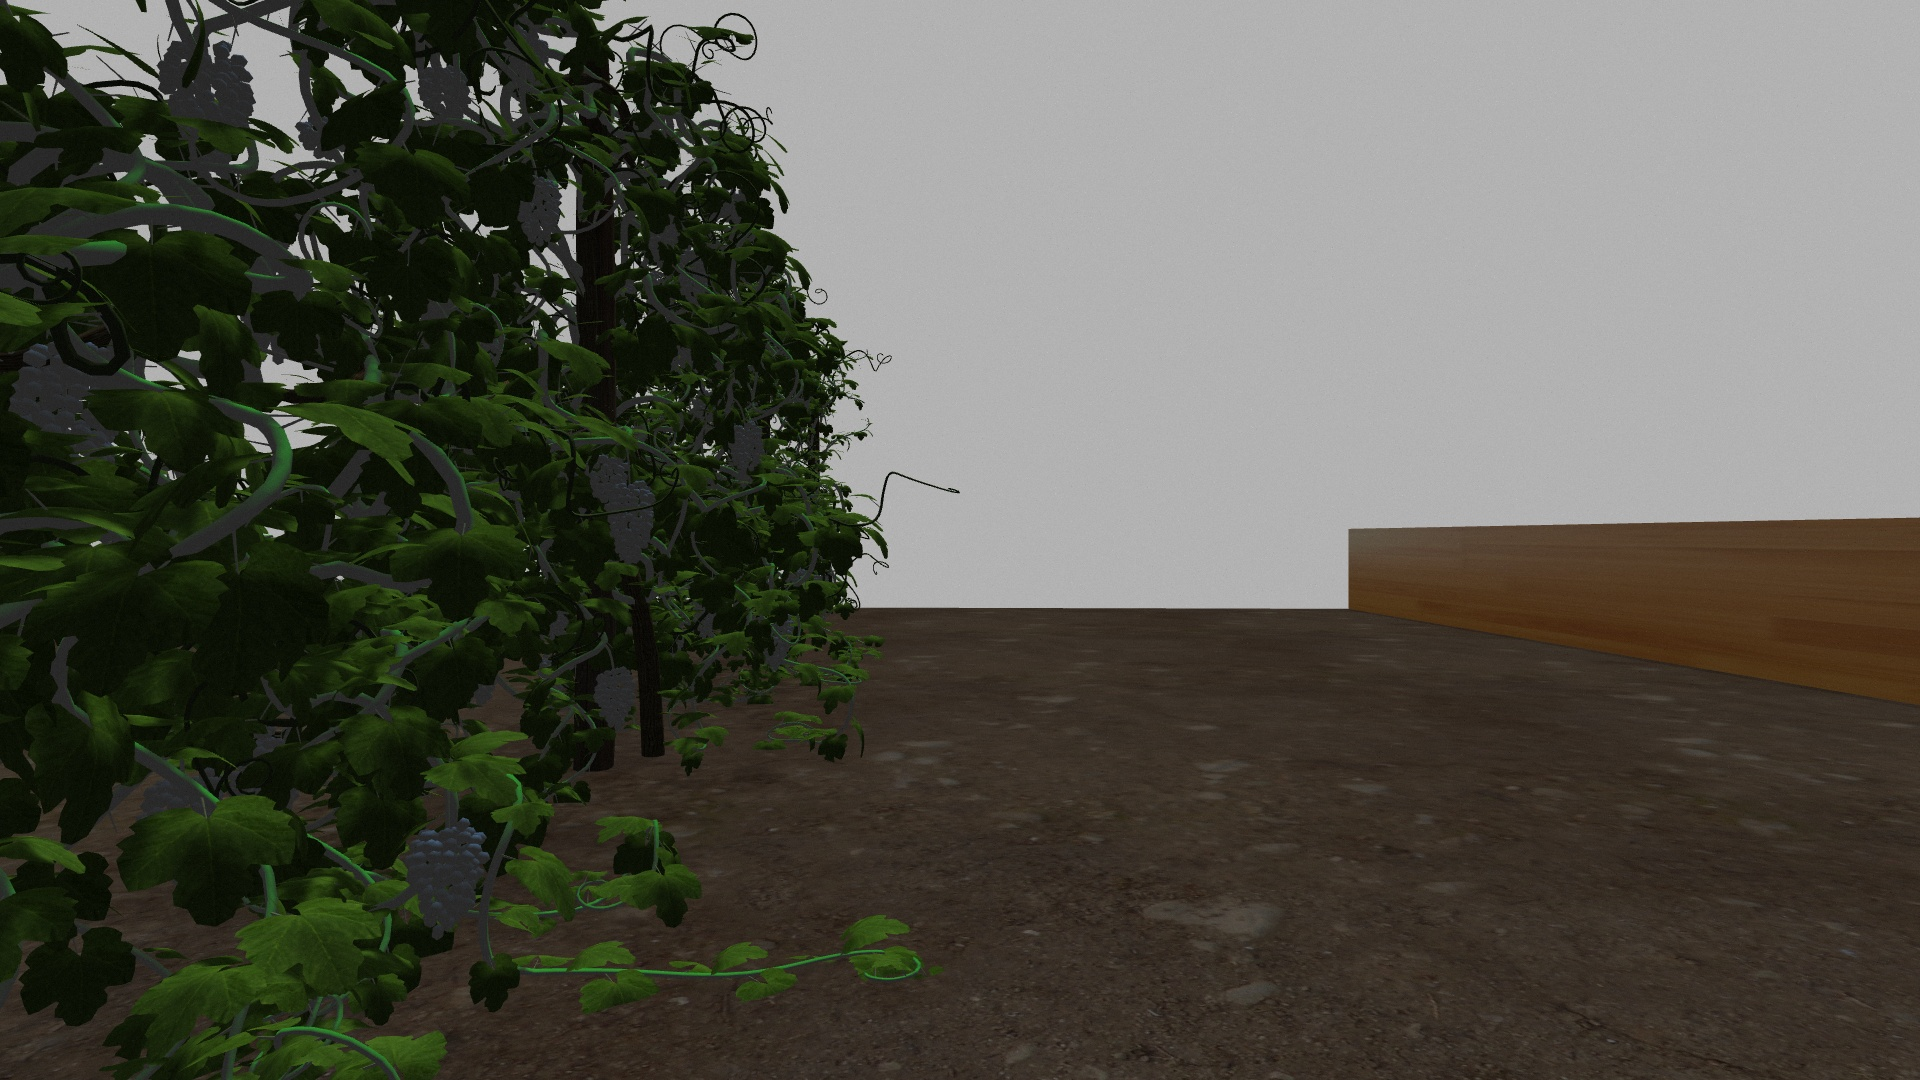grape: (9, 342, 123, 454), (156, 37, 257, 142), (405, 818, 488, 939), (608, 484, 655, 563), (518, 175, 564, 247), (593, 666, 640, 733), (418, 63, 471, 120), (588, 454, 630, 505), (729, 419, 767, 473), (764, 617, 794, 673), (676, 251, 708, 297)
